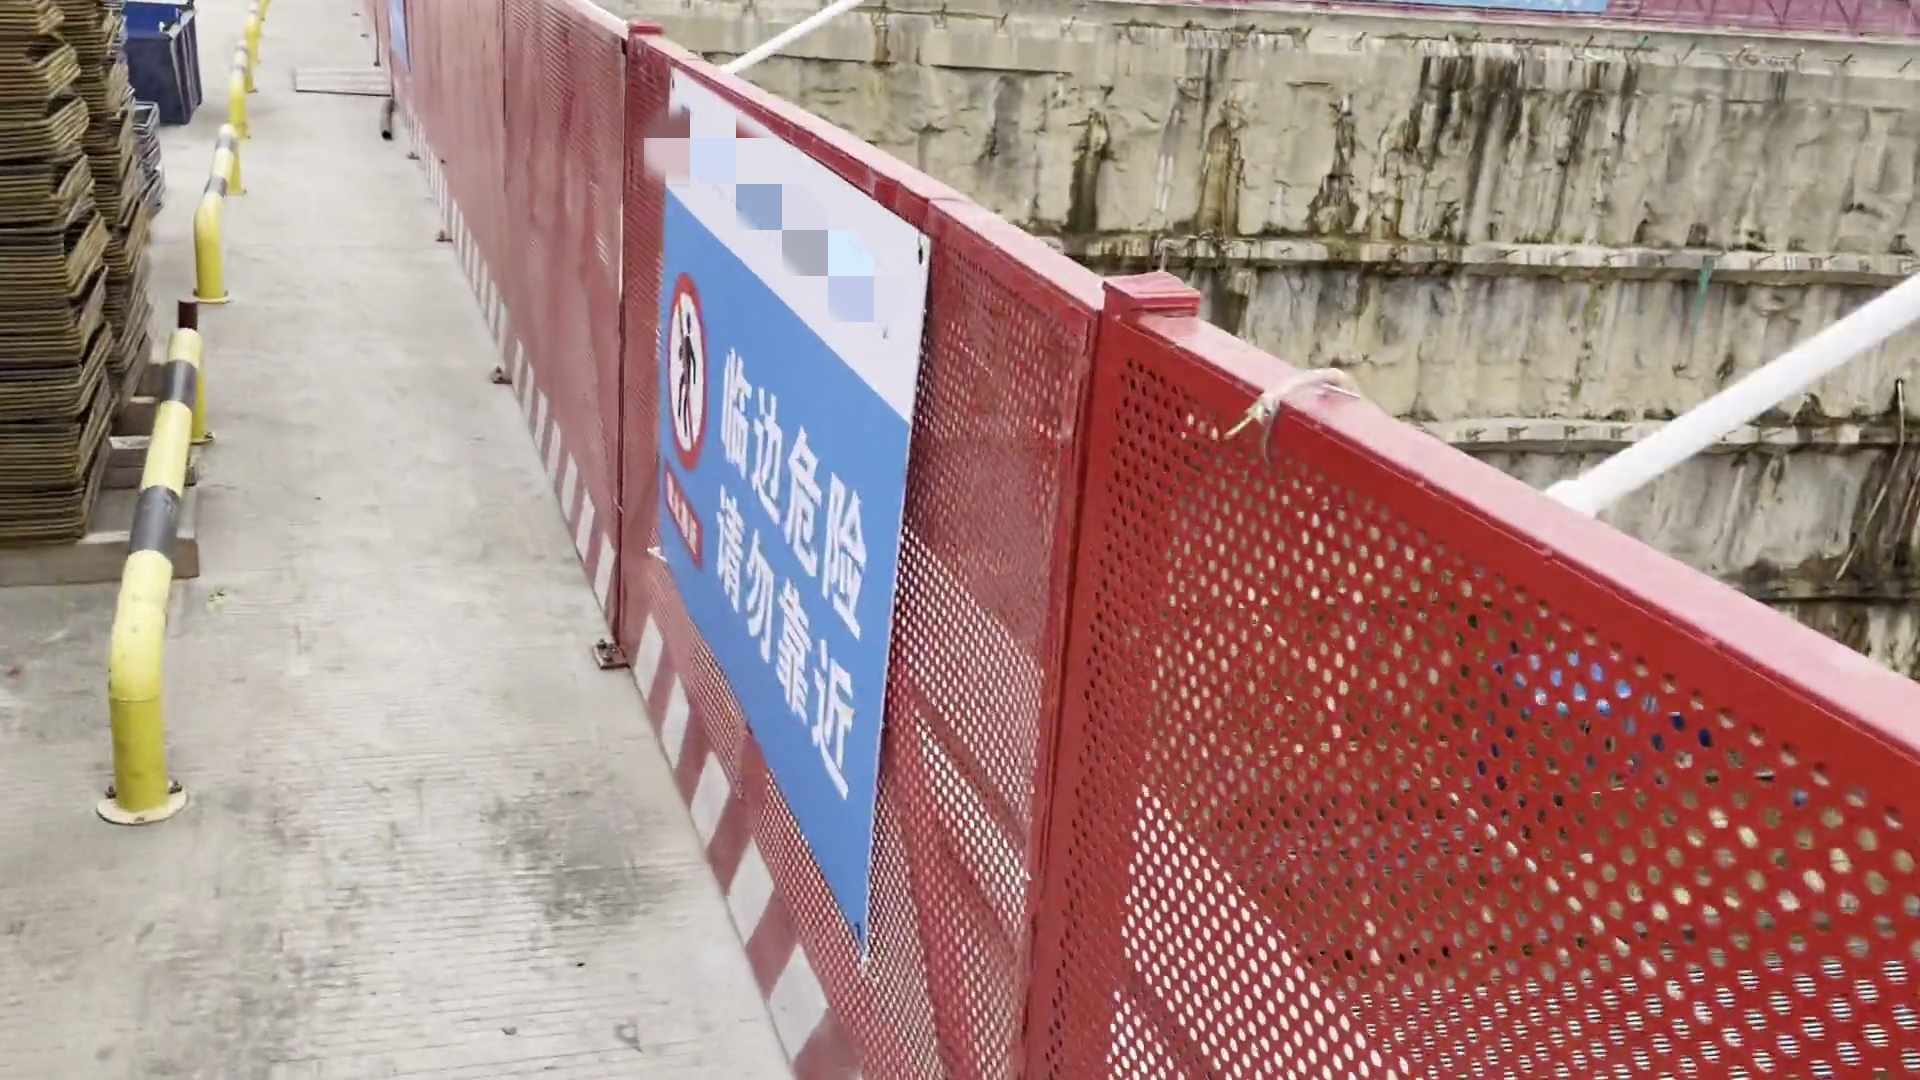fence: (365, 1, 1124, 1080), (1105, 273, 1920, 1080)
hopper: (125, 4, 225, 135)
slogan: (607, 54, 938, 986), (363, 1, 456, 94)
